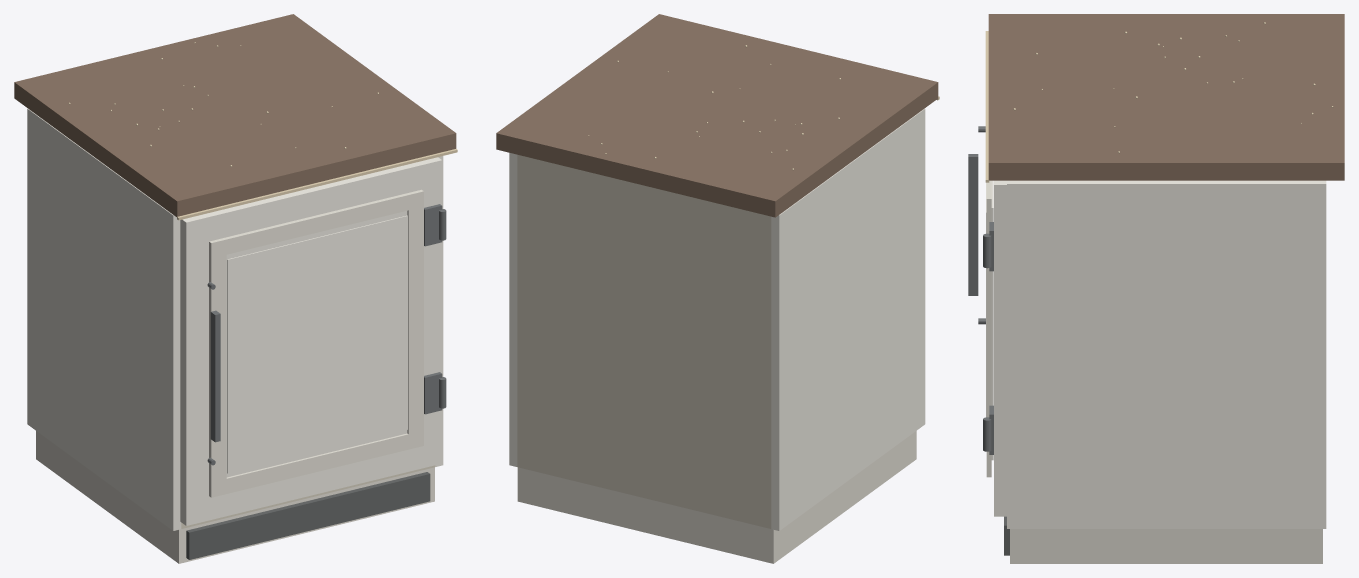
Rendered from base-single-door-realistic-panel-v2-600.glb.
The picture shows the model from 3 angles, left to right: view 1: azimuth 30°, elevation 25°; view 2: azimuth 150°, elevation 25°; view 3: azimuth 270°, elevation 25°; orthographic projection. The views are drawn at different scales.
Visible parts, largest first — view 1: Brown marble stone countertop, Left carcass side, Inset inner face, Door slab, Toe kick shadow, Full width plinth, Panel frame right, Panel frame top, Panel frame left, Panel frame bottom, Raised center panel, G profile vertical handle (+4 smaller); view 2: Back panel, Brown marble stone countertop, Left carcass side, Full width plinth, Right carcass side, Bottom panel, Top rail; view 3: Right carcass side, Brown marble stone countertop, Full width plinth, Door slab, G profile vertical handle, Panel frame right, Stone front edge band, Raised center panel.
Part boxes in pixels (left/top/right/bottom): Brown marble stone countertop: left=14, top=14, right=456, bottom=216; Left carcass side: left=27, top=108, right=181, bottom=530; Inset inner face: left=227, top=215, right=407, bottom=473; Door slab: left=180, top=157, right=442, bottom=525; Toe kick shadow: left=186, top=472, right=430, bottom=559; Full width plinth: left=36, top=431, right=434, bottom=563; Panel frame right: left=407, top=189, right=423, bottom=449; Panel frame top: left=217, top=191, right=416, bottom=256; Panel frame left: left=209, top=238, right=226, bottom=497; Panel frame bottom: left=219, top=433, right=415, bottom=494; Raised center panel: left=226, top=211, right=407, bottom=477; G profile vertical handle: left=210, top=310, right=220, bottom=442; Back panel: left=517, top=157, right=771, bottom=523; Brown marble stone countertop: left=496, top=14, right=938, bottom=217; Left carcass side: left=771, top=108, right=925, bottom=530; Full width plinth: left=517, top=431, right=916, bottom=563; Right carcass side: left=509, top=153, right=517, bottom=466; Bottom panel: left=517, top=462, right=771, bottom=528; Top rail: left=517, top=154, right=771, bottom=218; Right carcass side: left=1007, top=180, right=1326, bottom=528; Brown marble stone countertop: left=988, top=14, right=1344, bottom=180; Full width plinth: left=1010, top=529, right=1322, bottom=563; Door slab: left=994, top=180, right=1006, bottom=516; G profile vertical handle: left=968, top=154, right=978, bottom=295; Panel frame right: left=986, top=191, right=991, bottom=477; Stone front edge band: left=985, top=31, right=989, bottom=182; Raised center panel: left=991, top=180, right=993, bottom=460.
Bounding box in the file's own units: 600 × 720 × 600.
